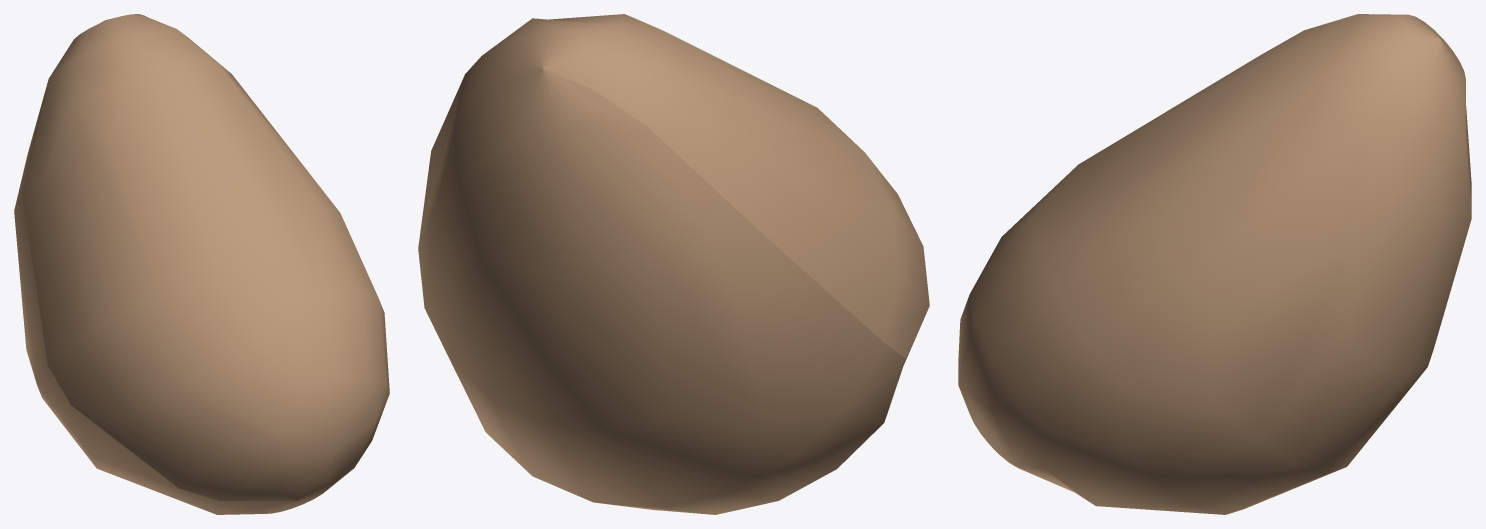
Rendered from foot_feline_optimized60.glb.
3 renders of one model, left to right at view 1: azimuth 30°, elevation 25°; view 2: azimuth 150°, elevation 25°; view 3: azimuth 270°, elevation 25°, orthographic. The views are drawn at different scales.
Visible parts, largest first — view 1: CombinedMesh_MaterialSlots; view 2: CombinedMesh_MaterialSlots; view 3: CombinedMesh_MaterialSlots.
Boxes of the visible parts, x1,y1,x2,y2 form: CombinedMesh_MaterialSlots: (14, 14, 389, 514); CombinedMesh_MaterialSlots: (418, 14, 929, 514); CombinedMesh_MaterialSlots: (958, 14, 1471, 514).
Bounding box in the file's own units: 1.67 × 2.07 × 2.05.
